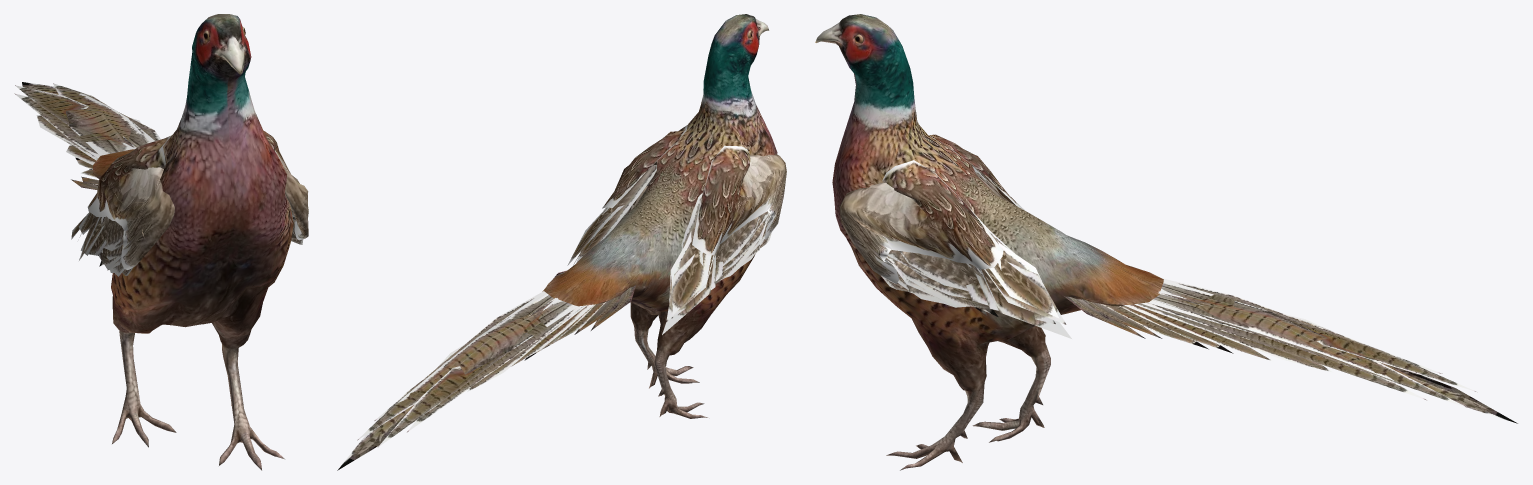
File: pheasant.glb
3 views of the same model, side by side, from view 1: azimuth 30°, elevation 25°; view 2: azimuth 150°, elevation 25°; view 3: azimuth 270°, elevation 25° (orthographic). The views are drawn at different scales.
Visible parts, largest first — view 1: Pheasant001_applied_clean_M_Pheasant_0_M_Pheasant_0; view 2: Pheasant001_applied_clean_M_Pheasant_0_M_Pheasant_0; view 3: Pheasant001_applied_clean_M_Pheasant_0_M_Pheasant_0.
Boxes of the visible parts, x1,y1,x2,y2 form: Pheasant001_applied_clean_M_Pheasant_0_M_Pheasant_0: [14, 14, 308, 470]; Pheasant001_applied_clean_M_Pheasant_0_M_Pheasant_0: [337, 14, 786, 470]; Pheasant001_applied_clean_M_Pheasant_0_M_Pheasant_0: [815, 14, 1517, 470].
Size of the model in its own units: 0.29 by 0.5347 by 0.8149.
1 material, 1 textured.
